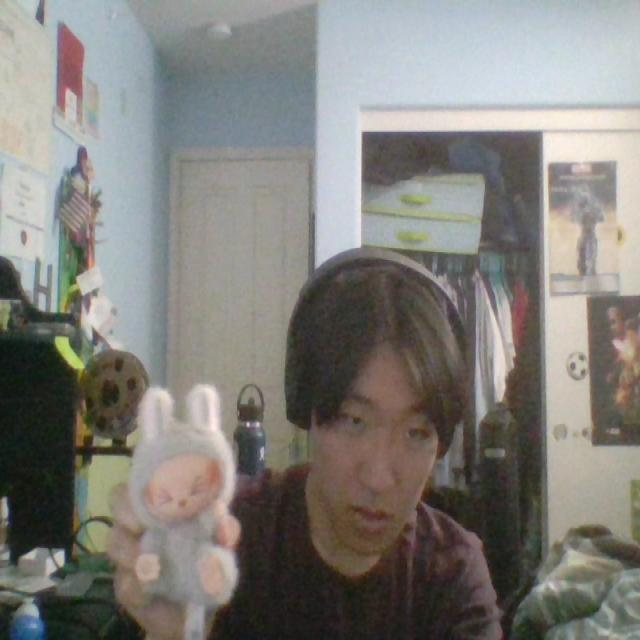labubu: (128, 385, 237, 609)
